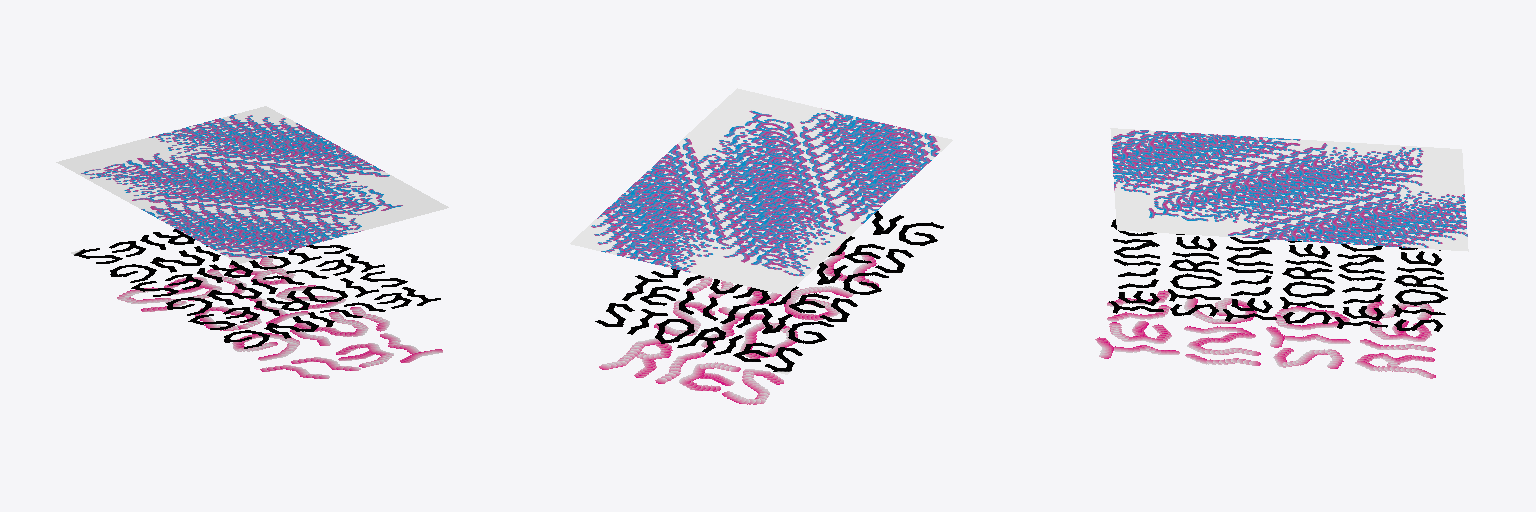
3 views of the same model, side by side, from view 1: azimuth 30°, elevation 25°; view 2: azimuth 150°, elevation 25°; view 3: azimuth 270°, elevation 25° (orthographic).
Visible parts, largest first — view 1: Grid.001_Grid.003, Grid.000_Grid.002, Grid.003_Grid.005; view 2: Grid.001_Grid.003, Grid.000_Grid.002, Grid.003_Grid.005; view 3: Grid.001_Grid.003, Grid.000_Grid.002, Grid.003_Grid.005.
Boxes of the visible parts, <box> form: Grid.001_Grid.003: <box>56,106,448,263</box>; Grid.000_Grid.002: <box>71,229,440,348</box>; Grid.003_Grid.005: <box>117,255,442,378</box>; Grid.001_Grid.003: <box>570,88,952,295</box>; Grid.000_Grid.002: <box>595,211,943,374</box>; Grid.003_Grid.005: <box>599,245,878,404</box>; Grid.001_Grid.003: <box>1110,128,1468,251</box>; Grid.000_Grid.002: <box>1109,219,1447,331</box>; Grid.003_Grid.005: <box>1095,290,1435,378</box>.
Size of the model in its own units: 2.99 by 2.04 by 4.34.
Materials: 3 (3 with a texture image).